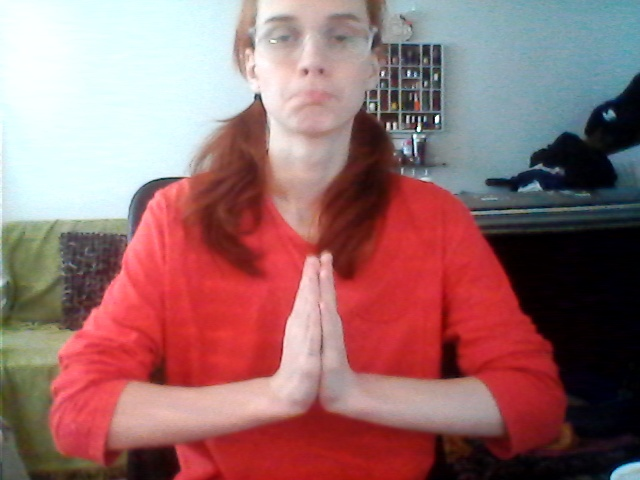prosim: (253, 241, 378, 438)
